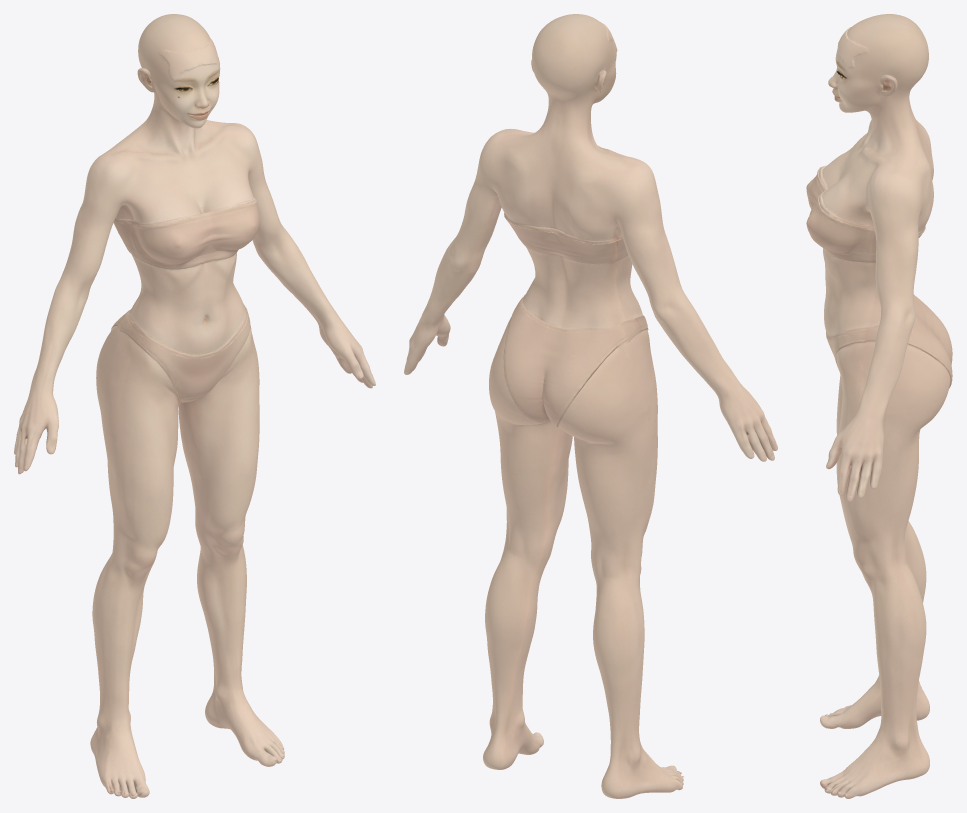
The model's file is t4_f2_preview.glb.
The picture shows the model from 3 angles, left to right: view 1: azimuth 30°, elevation 25°; view 2: azimuth 150°, elevation 25°; view 3: azimuth 270°, elevation 25°; orthographic projection. The views are drawn at different scales.
Visible parts, largest first — view 1: tripo_node_546ba4c7-91e1-4cc1-a6eb-adf36fcc10f6; view 2: tripo_node_546ba4c7-91e1-4cc1-a6eb-adf36fcc10f6; view 3: tripo_node_546ba4c7-91e1-4cc1-a6eb-adf36fcc10f6.
Boxes of the visible parts, left/top/right/bottom form: tripo_node_546ba4c7-91e1-4cc1-a6eb-adf36fcc10f6: left=14, top=14, right=375, bottom=798; tripo_node_546ba4c7-91e1-4cc1-a6eb-adf36fcc10f6: left=404, top=14, right=777, bottom=798; tripo_node_546ba4c7-91e1-4cc1-a6eb-adf36fcc10f6: left=806, top=14, right=952, bottom=798.
Size of the model in its own units: 0.4895 by 0.9795 by 0.1751.
1 material, 1 textured.
